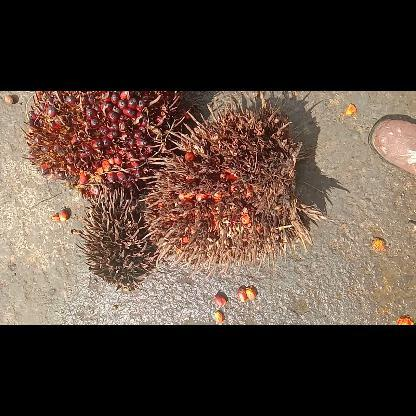Janjang kosong: (73, 187, 157, 288)
TBS masak: (22, 91, 180, 199)
Terlalu masak: (137, 95, 316, 275)
